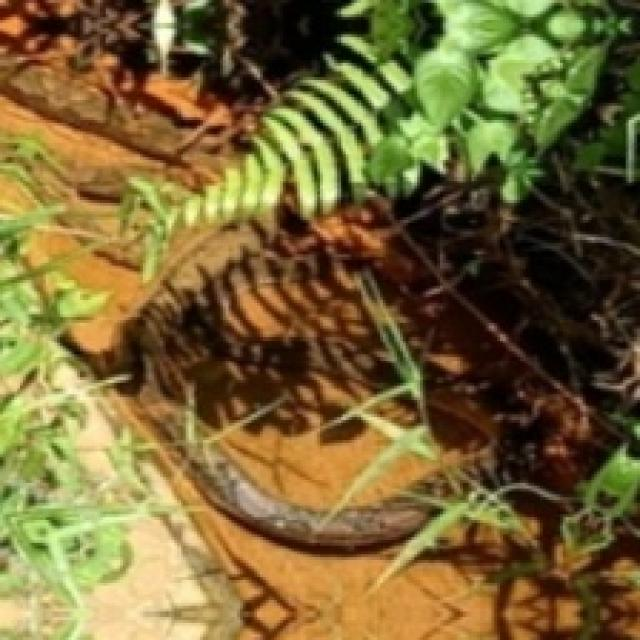reticulated python: (131, 205, 618, 583)
